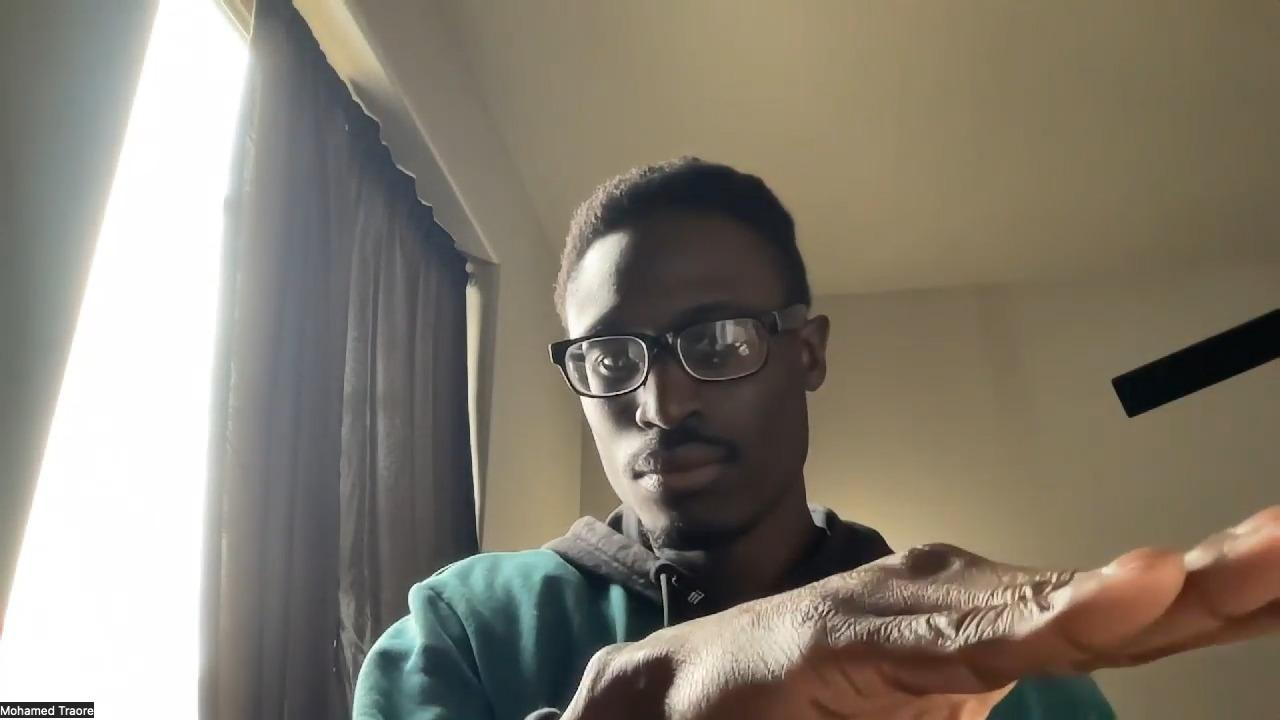Paper: (592, 502, 1280, 720)
